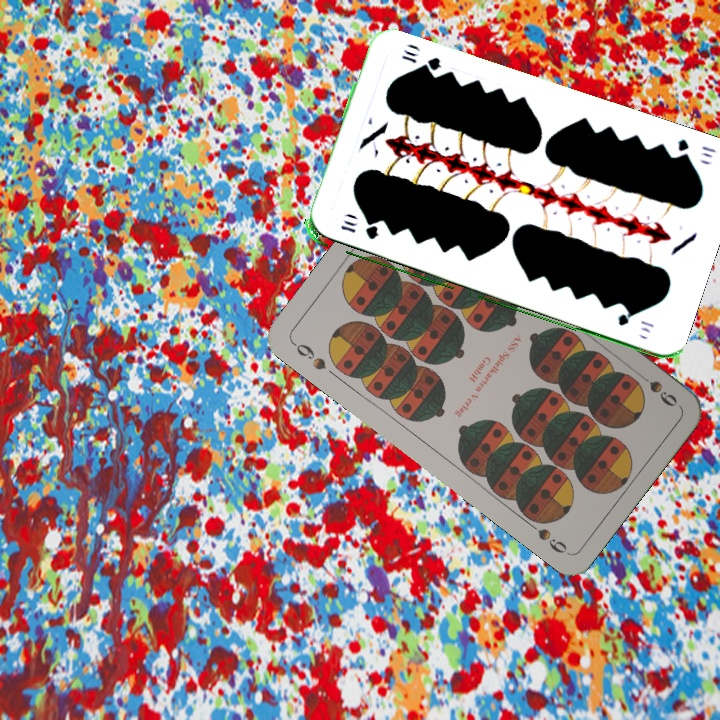G10: (671, 135, 719, 164), (336, 216, 381, 242)
S9: (630, 367, 680, 410), (288, 338, 329, 373)
